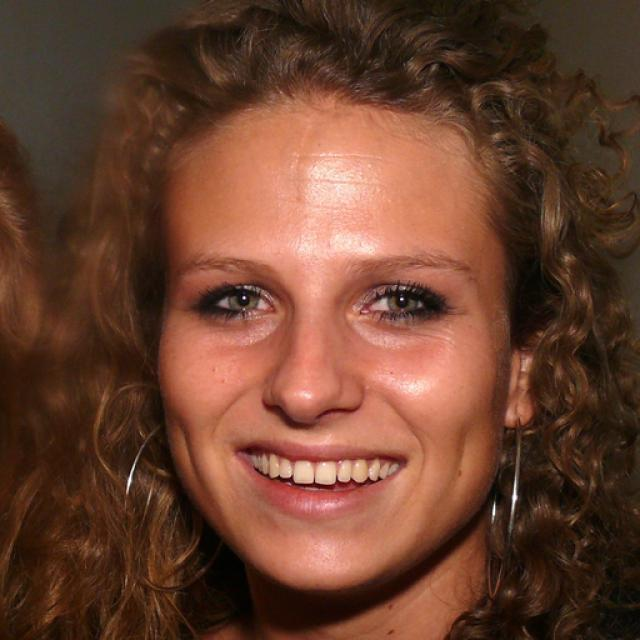happy: (159, 100, 509, 590)
